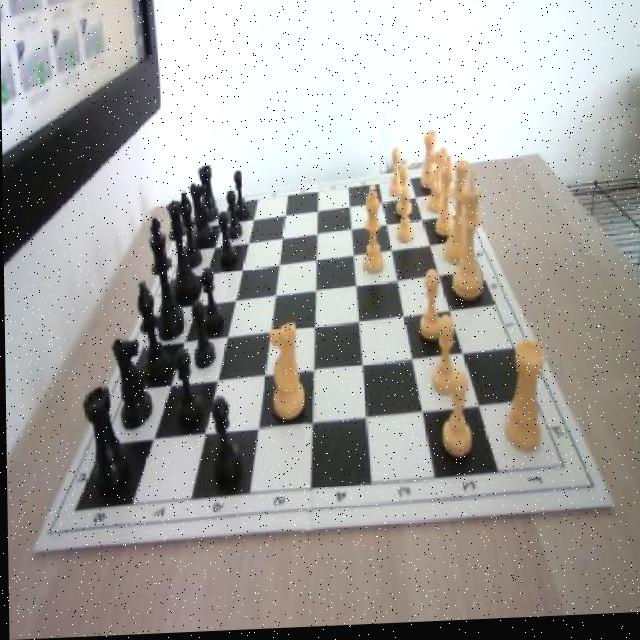bishop: (136, 280, 169, 380), (178, 190, 200, 268)
black-bishop: (148, 217, 186, 341)
black-king: (110, 338, 153, 431), (187, 182, 214, 247)
black-knight: (209, 401, 240, 490), (175, 347, 202, 433), (200, 266, 224, 337), (191, 302, 214, 370), (218, 215, 236, 271), (232, 173, 249, 225), (225, 191, 241, 240)
black-pawn: (165, 201, 198, 303)
black-queen: (83, 386, 127, 502), (199, 166, 218, 224)
black-rook: (360, 184, 385, 278), (433, 159, 455, 239)
white-bishop: (451, 171, 484, 301)
white-king: (269, 319, 305, 421), (426, 149, 451, 220)
white-knight: (439, 375, 473, 465), (425, 320, 455, 403), (417, 271, 444, 343), (394, 190, 414, 247), (395, 167, 410, 221), (389, 149, 402, 199)
white-pawn: (441, 165, 469, 271)
white-queen: (503, 344, 546, 458), (418, 134, 438, 194)
